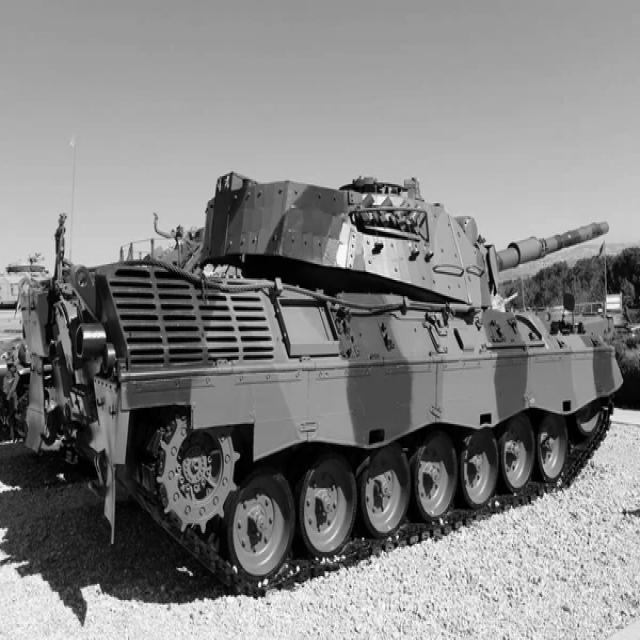Tank: (18, 168, 631, 600)
